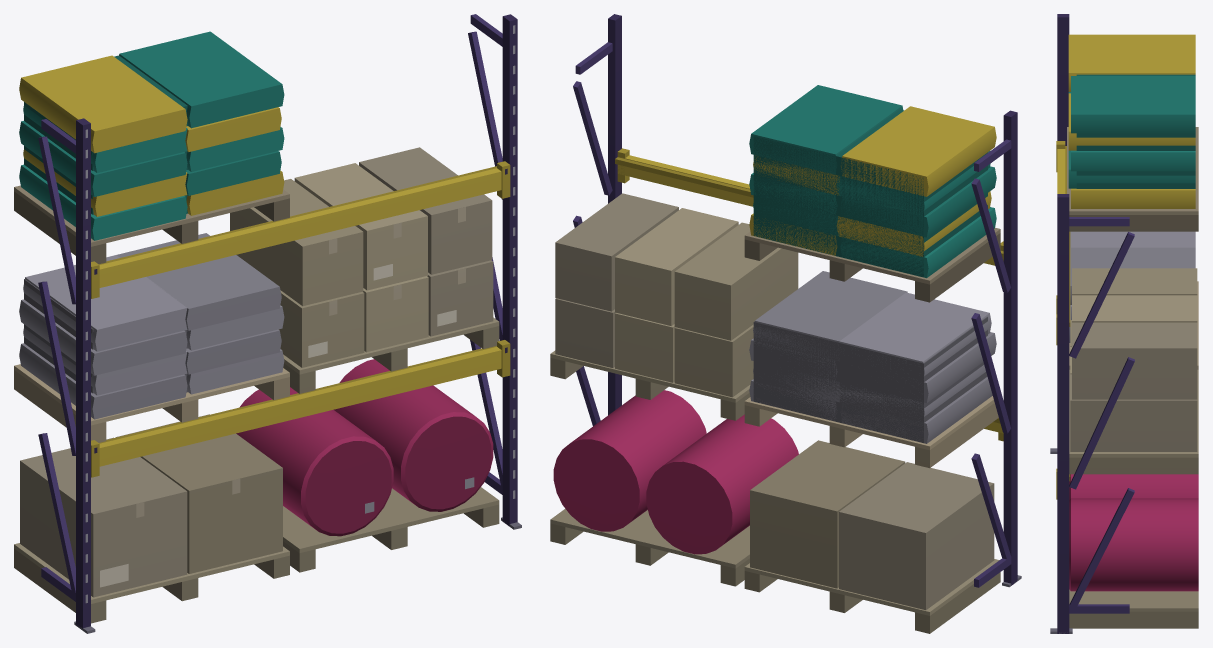
File: pallet_racking_c.glb
The picture shows the model from 3 angles, left to right: view 1: azimuth 30°, elevation 25°; view 2: azimuth 150°, elevation 25°; view 3: azimuth 270°, elevation 25°; orthographic projection. The views are drawn at different scales.
Visible parts, largest first — view 1: pallet_racking; view 2: pallet_racking; view 3: pallet_racking.
Part boxes in pixels (left/top/right/bottom): pallet_racking: left=14, top=14, right=521, bottom=633; pallet_racking: left=550, top=14, right=1021, bottom=633; pallet_racking: left=1050, top=14, right=1198, bottom=633.
Bounding box in the file's own units: 2.7 × 3 × 0.925.
